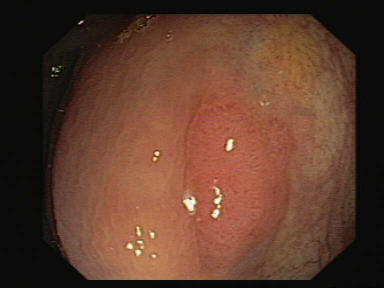polyp: (152, 74, 324, 269)
